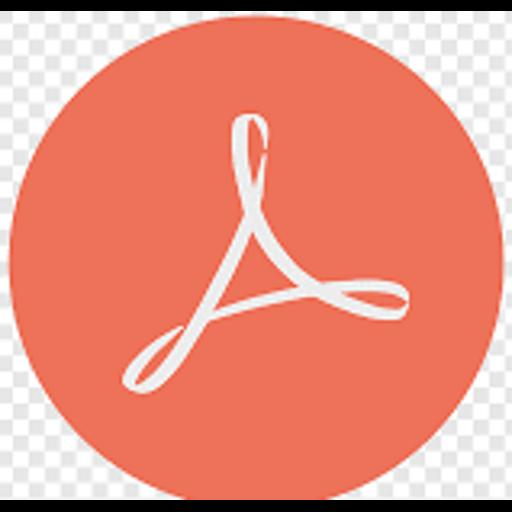Adobe: (0, 11, 512, 500)
